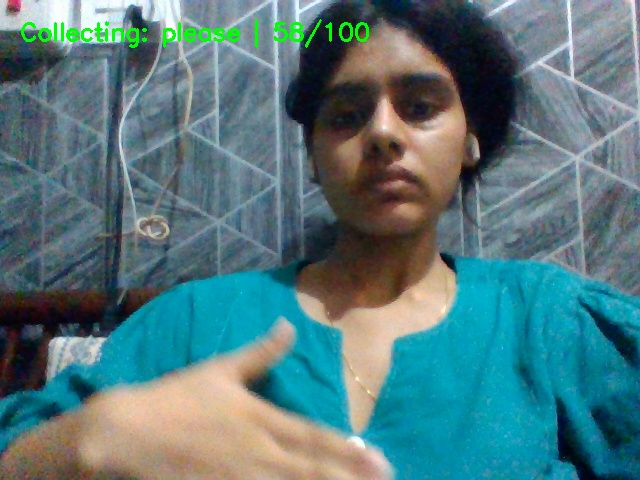please: (108, 315, 409, 480)
